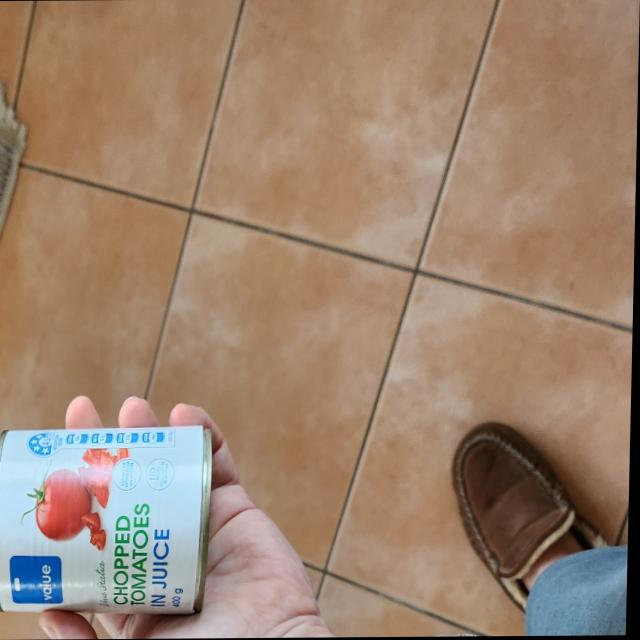tomato sauce: (0, 422, 220, 618)
